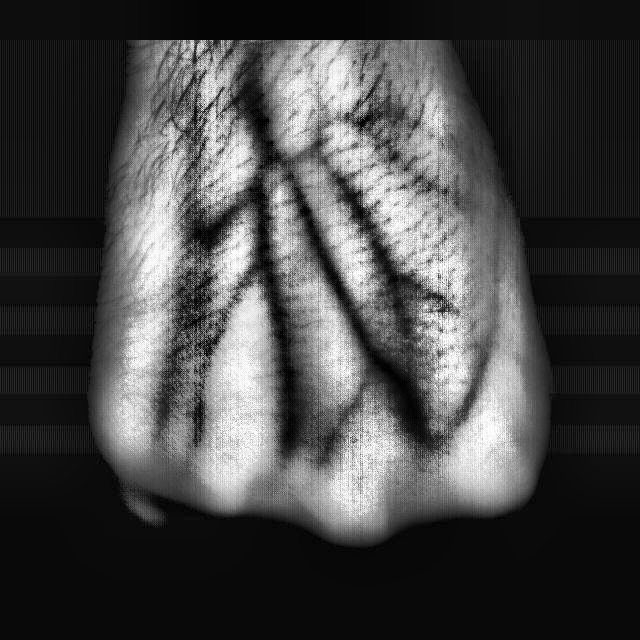Vein: (280, 165, 379, 357), (247, 161, 301, 371)
